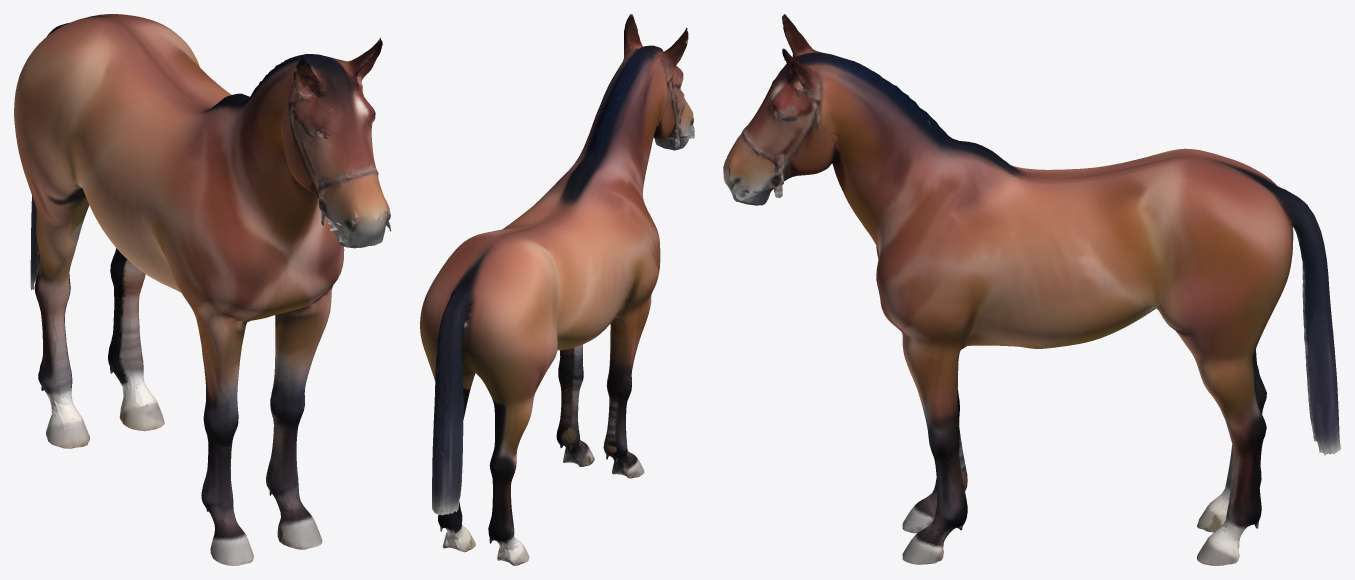
The model's file is horse.glb.
3 renders of one model, left to right at view 1: azimuth 30°, elevation 25°; view 2: azimuth 150°, elevation 25°; view 3: azimuth 270°, elevation 25°, orthographic. The views are drawn at different scales.
Visible parts, largest first — view 1: model; view 2: model; view 3: model.
Part boxes in pixels (left/top/right/bottom): model: left=14, top=14, right=391, bottom=565; model: left=420, top=14, right=694, bottom=565; model: left=723, top=14, right=1340, bottom=565.
Size of the model in its own units: 0.5205 by 1.73 by 1.9.
Materials: 1 (1 with a texture image).
